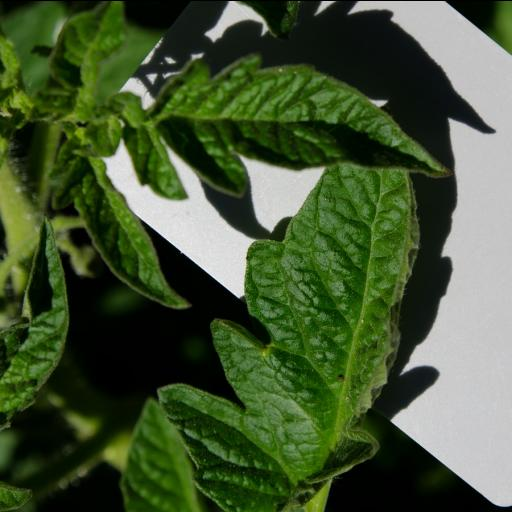Healthy: (155, 164, 420, 512), (111, 52, 453, 200), (67, 152, 192, 310)
